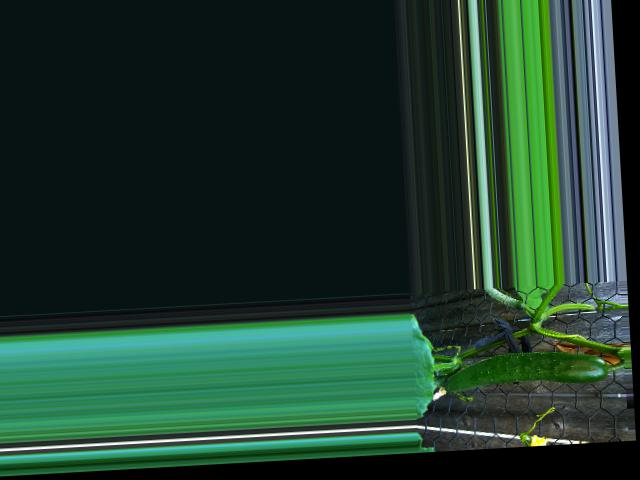cucumber: (444, 347, 608, 392)
